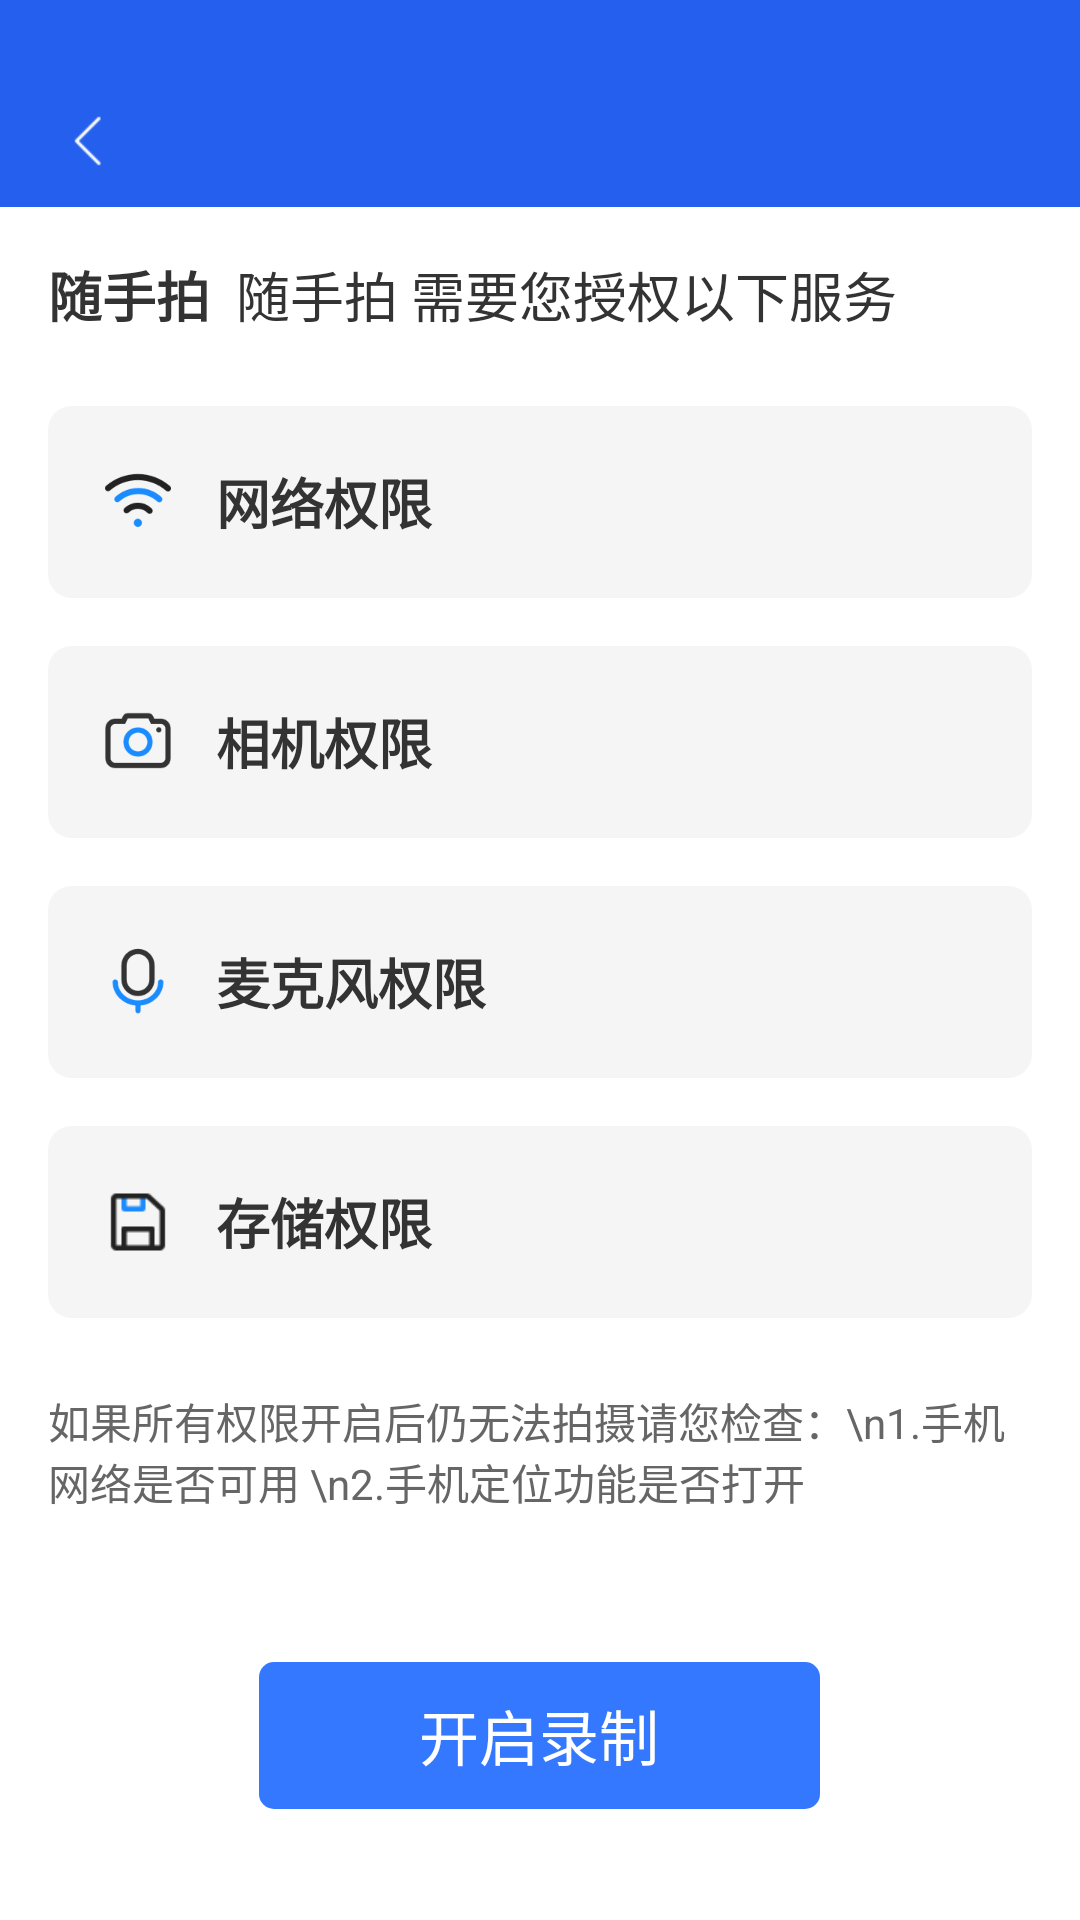

Screen size 1080×1920. Icon name, then its center in pixels as [x,y]:
camera power: [138,741]
micro: [138,981]
storage: [138,1222]
title return up: [87,141]
wifi: [138,500]
